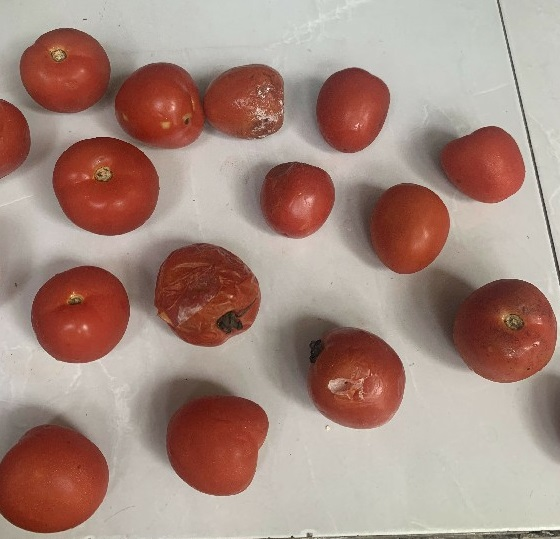NG: (149, 242, 264, 351), (306, 321, 408, 430), (116, 58, 209, 149), (200, 61, 289, 144), (255, 159, 336, 241)
OK: (0, 422, 114, 539), (446, 273, 560, 384), (160, 388, 271, 500), (26, 263, 134, 366), (48, 136, 159, 236), (362, 178, 454, 280), (13, 25, 114, 117), (436, 119, 529, 209), (313, 62, 394, 155)
